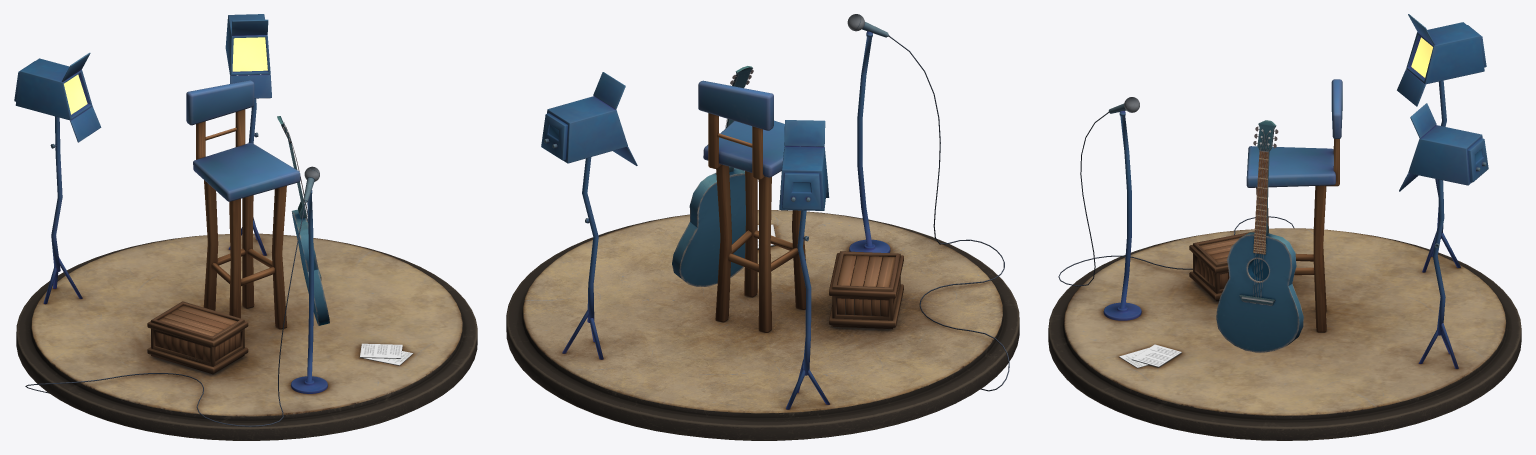
Rendered from stage__guitar.glb.
3 renders of one model, left to right at view 1: azimuth 30°, elevation 25°; view 2: azimuth 150°, elevation 25°; view 3: azimuth 270°, elevation 25°, orthographic. The views are drawn at different scales.
Visible parts, largest first — view 1: Stage, Chair, Cube, Lightbox.002, Lightbox.001, GBody.low, Microphone, Lightboxleg, BezierCurve, Texts; view 2: Stage, Chair, GBody.low, Cube, Lightbox.001, Lightbox.002, Microphone, Lightboxleg, Lightboxleg.001, BezierCurve; view 3: Stage, GBody.low, Chair, Lightbox.002, Lightbox.001, Cube, Microphone, Lightboxleg.001, Texts, BezierCurve, Lightboxleg.
Boxes of the visible parts, x1,y1,x2,y2 form: Stage: [16, 233, 477, 440]; Chair: [186, 80, 300, 329]; Cube: [147, 301, 248, 374]; Lightbox.002: [14, 52, 101, 142]; Lightbox.001: [225, 14, 271, 98]; GBody.low: [277, 116, 329, 325]; Microphone: [291, 190, 327, 393]; Lightboxleg: [43, 116, 82, 304]; BezierCurve: [25, 202, 305, 426]; Texts: [359, 343, 413, 365]; Stage: [506, 210, 1019, 440]; Chair: [698, 80, 817, 332]; GBody.low: [672, 66, 753, 286]; Cube: [829, 251, 903, 329]; Lightbox.001: [541, 72, 637, 165]; Lightbox.002: [779, 120, 829, 210]; Microphone: [849, 31, 890, 252]; Lightboxleg: [786, 210, 829, 409]; Lightboxleg.001: [562, 157, 603, 359]; BezierCurve: [889, 36, 1009, 391]; Stage: [1048, 228, 1521, 440]; GBody.low: [1216, 120, 1303, 352]; Chair: [1246, 79, 1342, 332]; Lightbox.002: [1397, 14, 1486, 106]; Lightbox.001: [1399, 103, 1488, 191]; Cube: [1189, 231, 1254, 301]; Microphone: [1103, 111, 1141, 320]; Lightboxleg.001: [1418, 179, 1458, 368]; Texts: [1119, 344, 1181, 368]; BezierCurve: [1058, 112, 1294, 286]; Lightboxleg: [1422, 80, 1460, 272].
Bounding box in the file's own units: 2.87 × 1.75 × 2.74.
3 materials, 3 textured.
